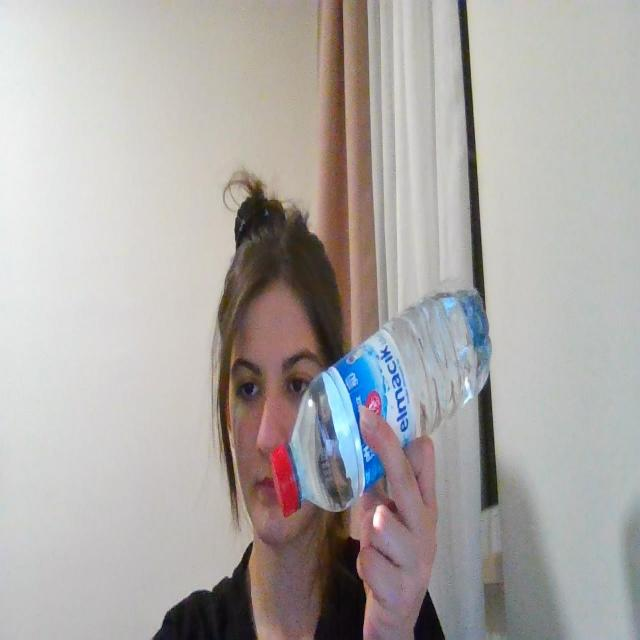bottle: (265, 282, 513, 523)
